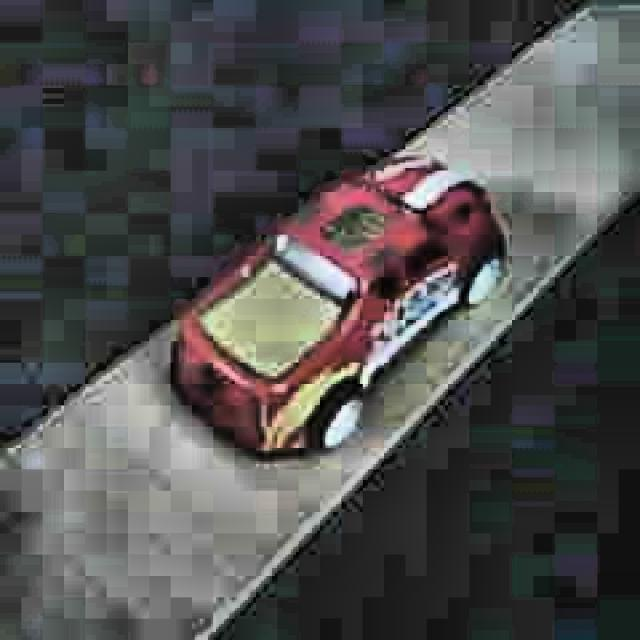car: (167, 150, 510, 463)
